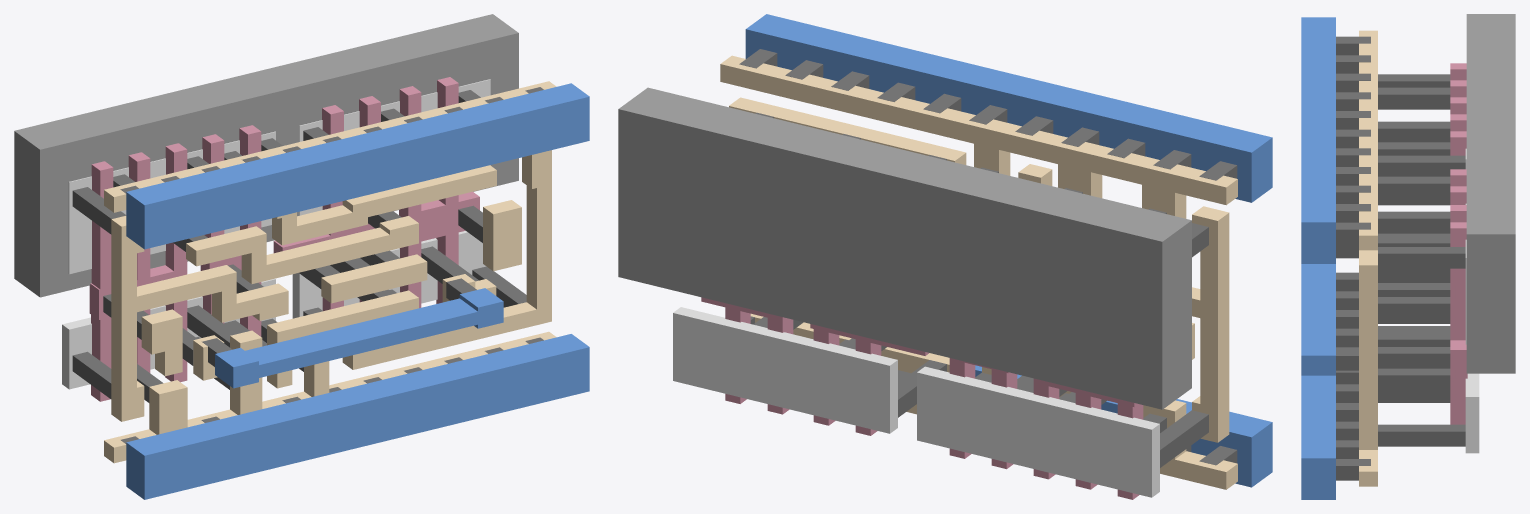
File: sky130_fd_sc_hd__mux2i_2.gds.gltf
The picture shows the model from 3 angles, left to right: view 1: azimuth 30°, elevation 25°; view 2: azimuth 150°, elevation 25°; view 3: azimuth 270°, elevation 25°; orthographic projection. The views are drawn at different scales.
Visible parts, largest first — view 1: sky130_fd_sc_hd__mux2i_2_met1, sky130_fd_sc_hd__mux2i_2_li1, sky130_fd_sc_hd__mux2i_2_nwell, sky130_fd_sc_hd__mux2i_2_poly, sky130_fd_sc_hd__mux2i_2_licon, sky130_fd_sc_hd__mux2i_2_diff, sky130_fd_sc_hd__mux2i_2_mcon; view 2: sky130_fd_sc_hd__mux2i_2_nwell, sky130_fd_sc_hd__mux2i_2_diff, sky130_fd_sc_hd__mux2i_2_li1, sky130_fd_sc_hd__mux2i_2_met1, sky130_fd_sc_hd__mux2i_2_mcon, sky130_fd_sc_hd__mux2i_2_poly, sky130_fd_sc_hd__mux2i_2_licon; view 3: sky130_fd_sc_hd__mux2i_2_licon, sky130_fd_sc_hd__mux2i_2_nwell, sky130_fd_sc_hd__mux2i_2_met1, sky130_fd_sc_hd__mux2i_2_mcon, sky130_fd_sc_hd__mux2i_2_li1, sky130_fd_sc_hd__mux2i_2_poly, sky130_fd_sc_hd__mux2i_2_diff.
Part boxes in pixels (left/top/right/bottom): sky130_fd_sc_hd__mux2i_2_met1: left=126, top=83, right=589, bottom=499; sky130_fd_sc_hd__mux2i_2_li1: left=104, top=81, right=556, bottom=463; sky130_fd_sc_hd__mux2i_2_nwell: left=14, top=14, right=518, bottom=297; sky130_fd_sc_hd__mux2i_2_poly: left=89, top=77, right=479, bottom=401; sky130_fd_sc_hd__mux2i_2_licon: left=72, top=90, right=526, bottom=402; sky130_fd_sc_hd__mux2i_2_diff: left=62, top=79, right=490, bottom=389; sky130_fd_sc_hd__mux2i_2_mcon: left=120, top=87, right=543, bottom=443; sky130_fd_sc_hd__mux2i_2_nwell: left=618, top=87, right=1191, bottom=409; sky130_fd_sc_hd__mux2i_2_diff: left=673, top=307, right=1159, bottom=497; sky130_fd_sc_hd__mux2i_2_li1: left=720, top=55, right=1237, bottom=489; sky130_fd_sc_hd__mux2i_2_met1: left=745, top=14, right=1272, bottom=487; sky130_fd_sc_hd__mux2i_2_mcon: left=739, top=49, right=1237, bottom=465; sky130_fd_sc_hd__mux2i_2_poly: left=701, top=297, right=1143, bottom=499; sky130_fd_sc_hd__mux2i_2_licon: left=750, top=112, right=1208, bottom=467; sky130_fd_sc_hd__mux2i_2_licon: left=1378, top=74, right=1465, bottom=446; sky130_fd_sc_hd__mux2i_2_nwell: left=1466, top=14, right=1515, bottom=373; sky130_fd_sc_hd__mux2i_2_met1: left=1301, top=17, right=1335, bottom=499; sky130_fd_sc_hd__mux2i_2_mcon: left=1336, top=36, right=1370, bottom=480; sky130_fd_sc_hd__mux2i_2_li1: left=1359, top=30, right=1377, bottom=486; sky130_fd_sc_hd__mux2i_2_poly: left=1450, top=63, right=1467, bottom=424; sky130_fd_sc_hd__mux2i_2_diff: left=1465, top=148, right=1479, bottom=453.
Size of the model in its own units: 5.44 by 3.2 by 2.24.
